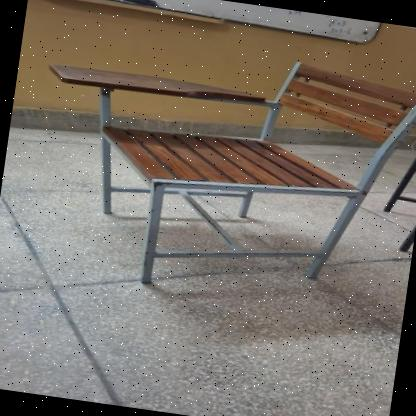chair: (13, 17, 416, 327)
